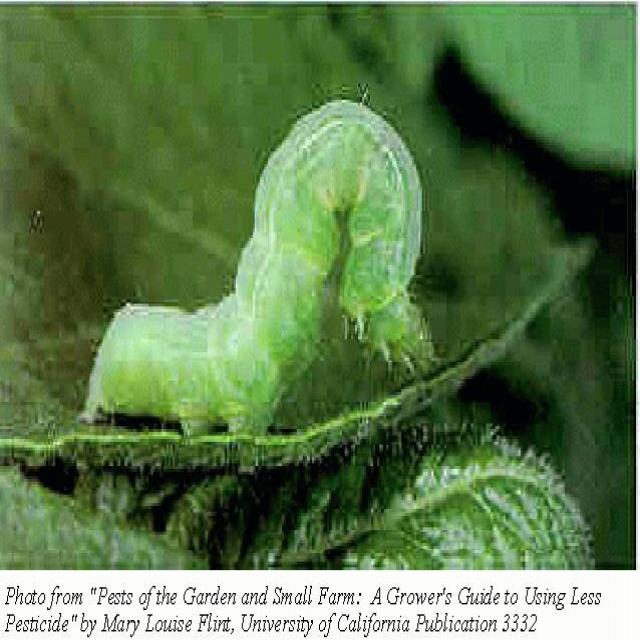armyworm: (83, 79, 461, 450)
